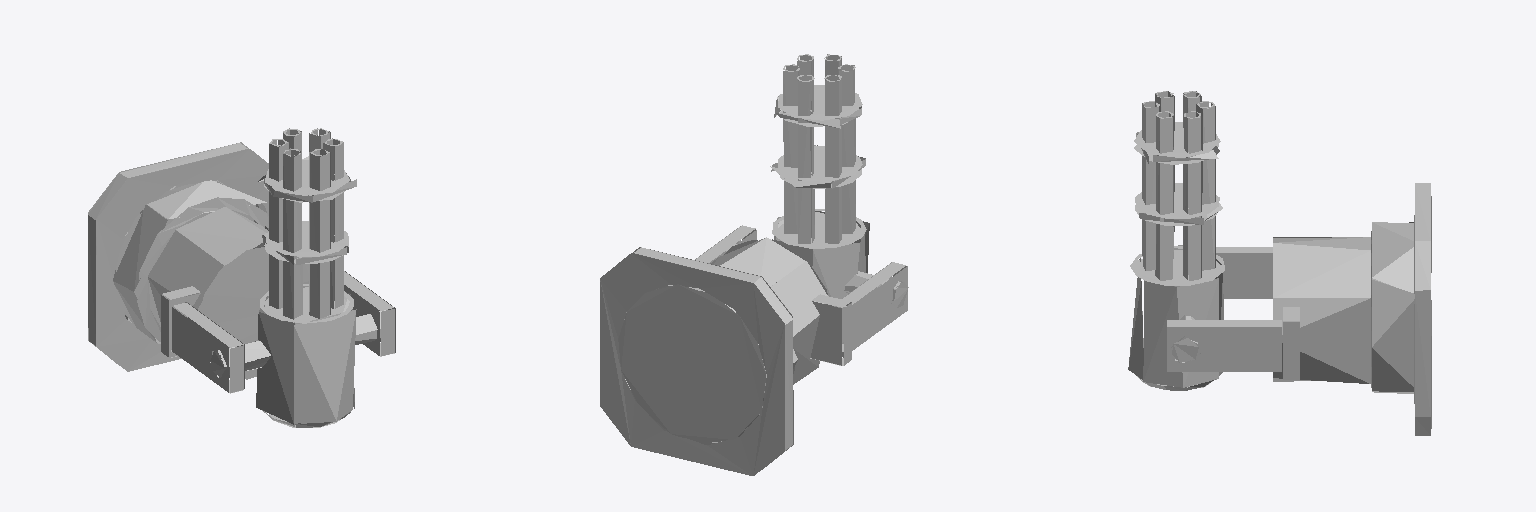
Rendered from Gun.obj.
The picture shows the model from 3 angles: view 1: azimuth 30°, elevation 25°; view 2: azimuth 150°, elevation 25°; view 3: azimuth 270°, elevation 25°; orthographic projection.
Visible parts, largest first — view 1: Object_9; view 2: Object_9; view 3: Object_9.
Boxes of the visible parts, x1,y1,x2,y2 form: Object_9: [88, 128, 395, 427]; Object_9: [600, 54, 908, 475]; Object_9: [1128, 91, 1431, 435].
Size of the model in its own units: 2 by 3.1 by 2.83.